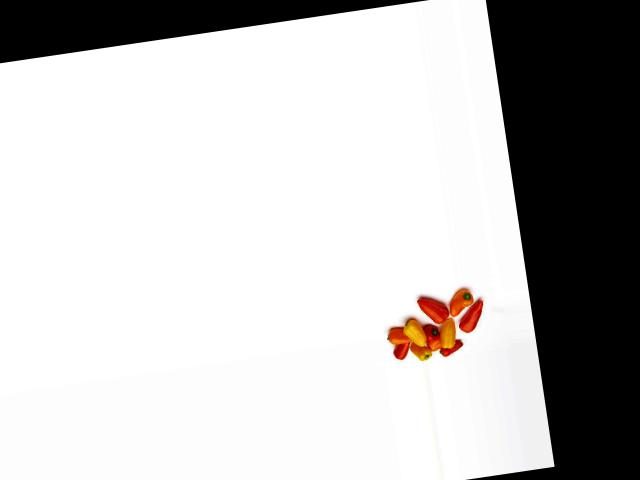bell_pepper: (437, 341, 467, 358)
